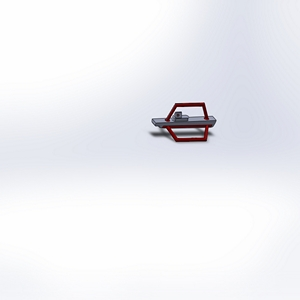submarine: (149, 92, 217, 155)
